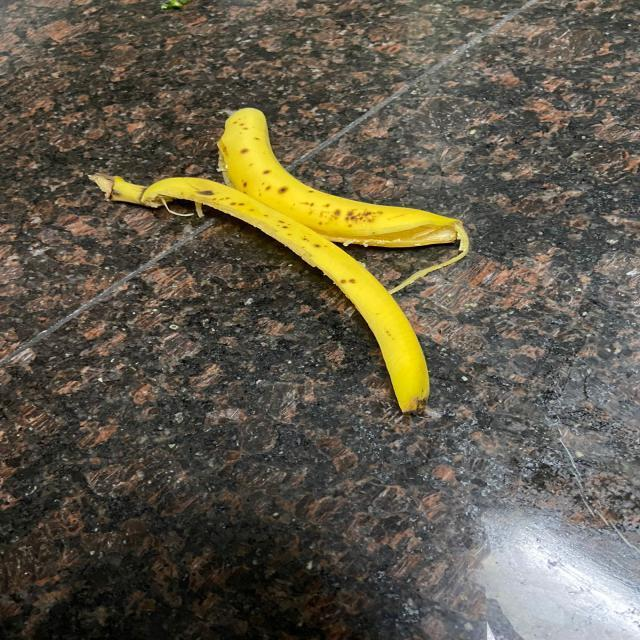banana-peel: (87, 171, 431, 415), (215, 106, 469, 294)
